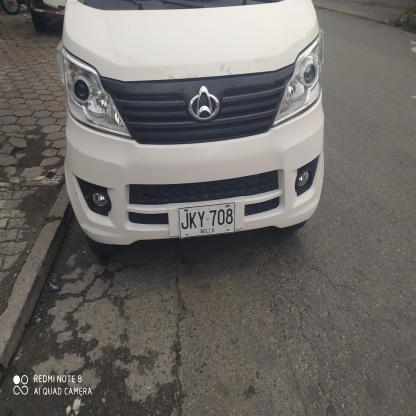placa: (175, 202, 239, 241)
